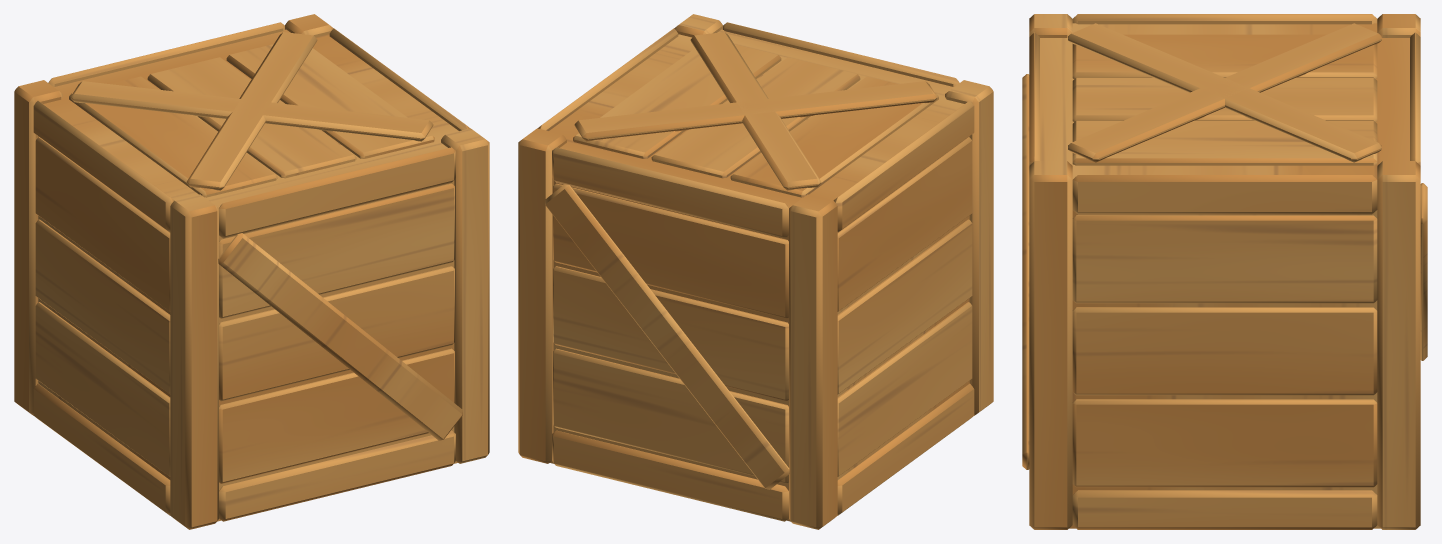
File: crate.glb
The picture shows the model from 3 angles, left to right: view 1: azimuth 30°, elevation 25°; view 2: azimuth 150°, elevation 25°; view 3: azimuth 270°, elevation 25°; orthographic projection. The views are drawn at different scales.
Parts seen in each view (by area): view 1: crate; view 2: crate; view 3: crate.
Part boxes in pixels (x1,y1,x2,y2): crate: [14, 14, 489, 529]; crate: [518, 14, 993, 529]; crate: [1022, 14, 1427, 529].
Size of the model in its own units: 0.9 by 0.916 by 0.932.
1 material, 1 textured.
